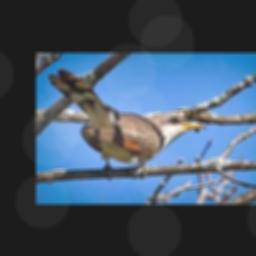Cuckoo: (49, 69, 208, 170)
